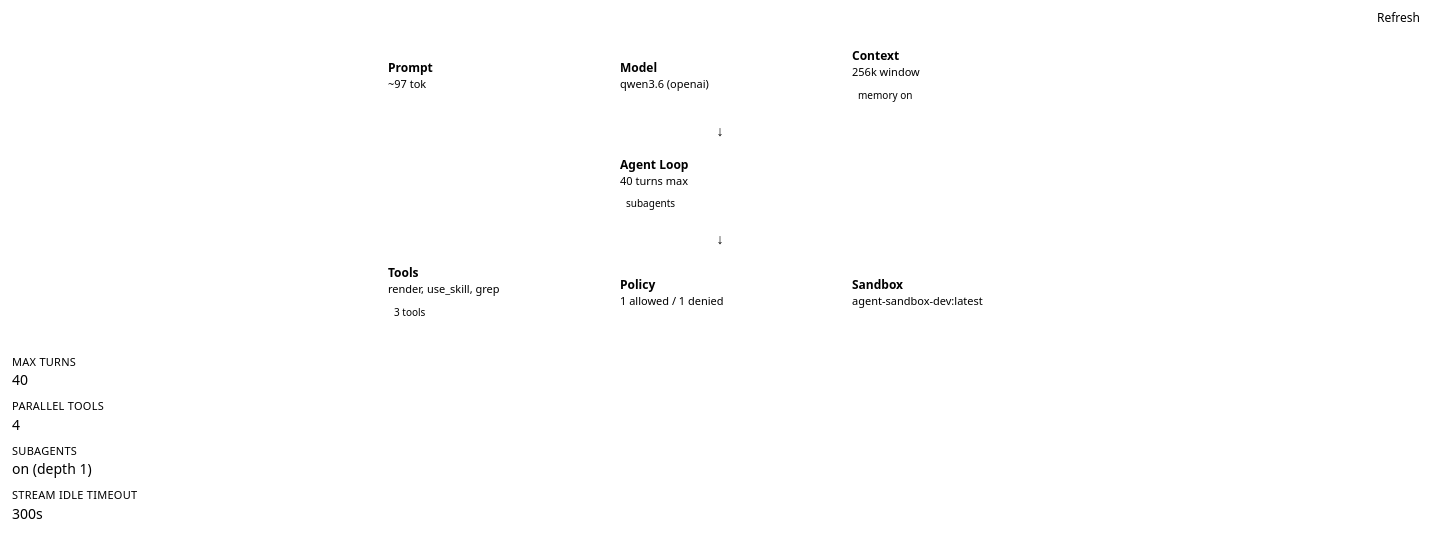
Test: ArchitecturePane › drills down on block click
Expected: the element with test id "arch-diagram" is shown, [376,40,1064,330]
Click the button "Tools render, use_skill, grep 3 tools".
click(488, 293)  # box [376,257,600,330]
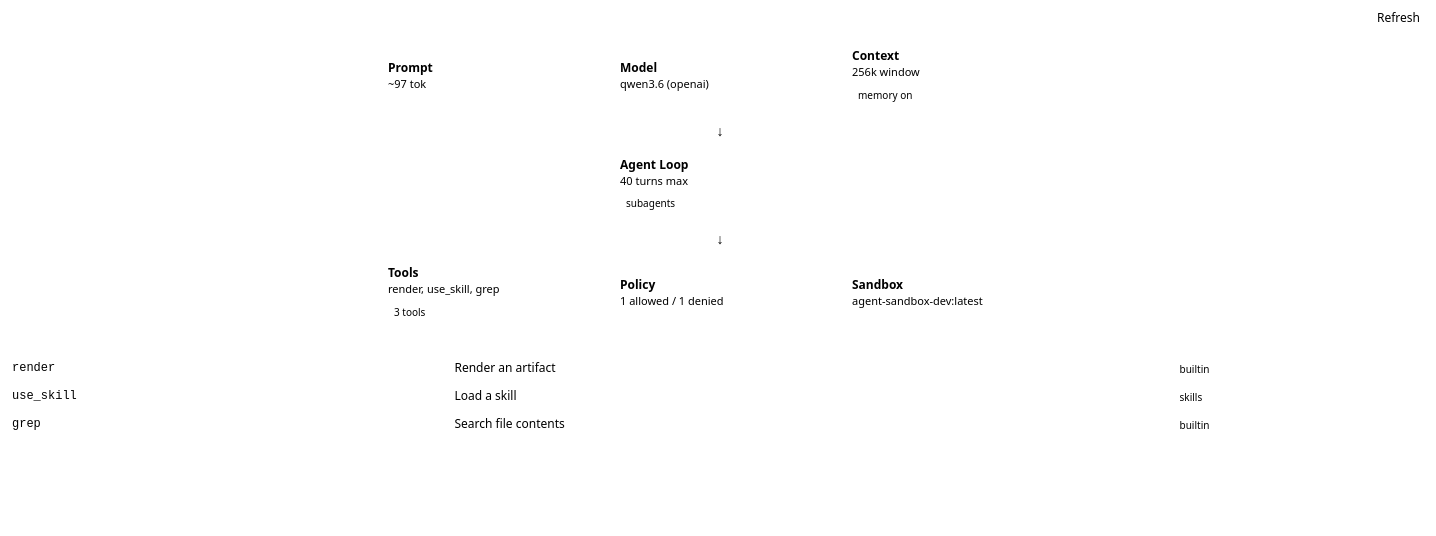
Expected: the text "Render an artifact" is shown, [454,354,1174,382]
